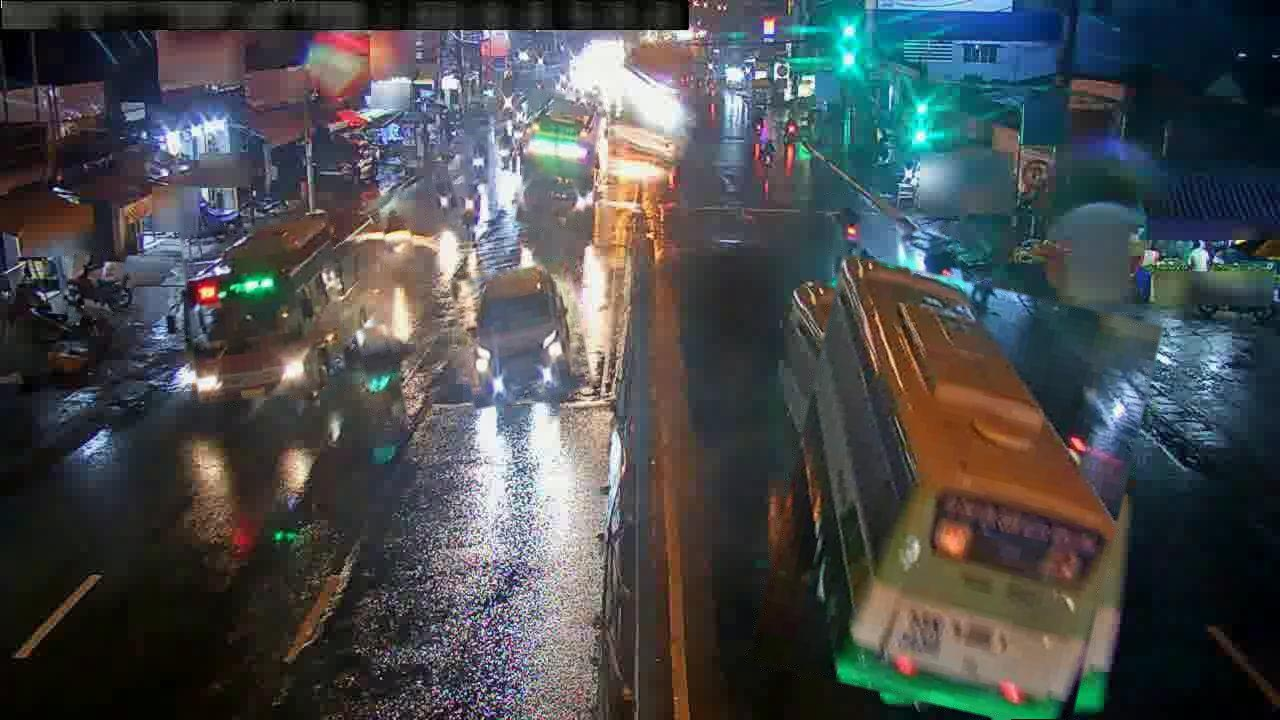Bus: (181, 213, 357, 403), (520, 98, 598, 224)
Car: (472, 266, 570, 402)
Motorcyclist: (903, 230, 966, 296), (67, 256, 132, 313), (382, 197, 412, 266), (826, 204, 865, 252), (464, 136, 489, 184), (449, 194, 479, 233), (431, 183, 459, 220)
Traffic light: (357, 328, 404, 394)
Truck: (785, 255, 1126, 719)
